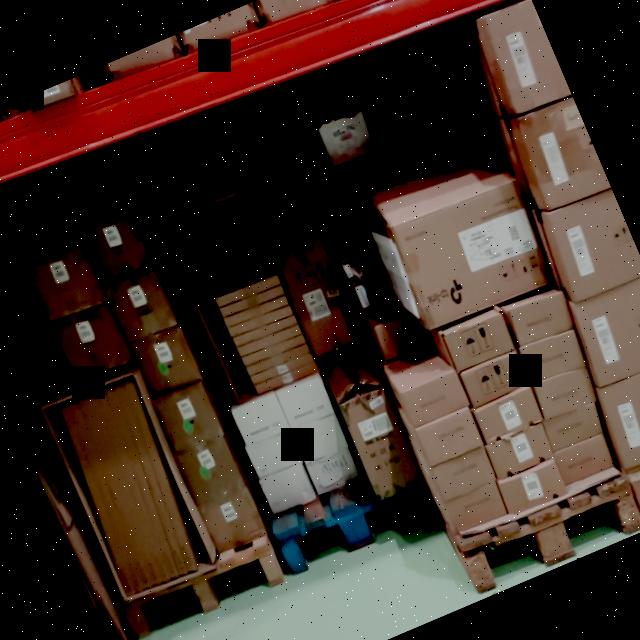box: (392, 178, 552, 330), (60, 404, 137, 595), (125, 380, 198, 571), (72, 404, 143, 593), (118, 385, 187, 575), (80, 401, 149, 589), (91, 394, 159, 583), (86, 398, 154, 587), (110, 386, 177, 577), (104, 390, 169, 581), (100, 393, 165, 583), (274, 231, 360, 353), (547, 190, 640, 302), (519, 97, 611, 208), (484, 0, 572, 113), (340, 386, 422, 499), (575, 278, 640, 386), (26, 241, 105, 321), (54, 306, 129, 377), (79, 209, 150, 283), (131, 324, 201, 397), (154, 382, 222, 452), (107, 271, 175, 340), (177, 436, 244, 504), (199, 485, 266, 553), (444, 312, 515, 371), (460, 352, 531, 408), (599, 373, 640, 467), (486, 424, 556, 479), (473, 386, 542, 441), (519, 327, 584, 383), (416, 409, 482, 464), (499, 462, 566, 515), (431, 446, 496, 500), (402, 373, 468, 426), (510, 290, 572, 344), (534, 368, 598, 419), (444, 482, 506, 534), (276, 375, 334, 430), (553, 435, 614, 484), (292, 413, 348, 463), (232, 394, 288, 444), (261, 466, 316, 516), (544, 405, 603, 451), (319, 112, 373, 162), (248, 432, 302, 478), (374, 311, 425, 358), (306, 448, 358, 494), (215, 272, 280, 307), (256, 362, 318, 396), (250, 352, 314, 384), (222, 286, 284, 318), (234, 314, 296, 346), (242, 334, 304, 366), (224, 295, 286, 326), (230, 305, 292, 336), (238, 325, 300, 356), (248, 344, 308, 376)
